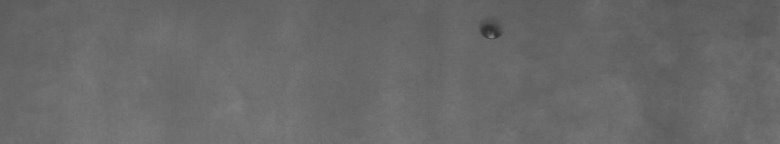fi: (476, 16, 504, 44)
